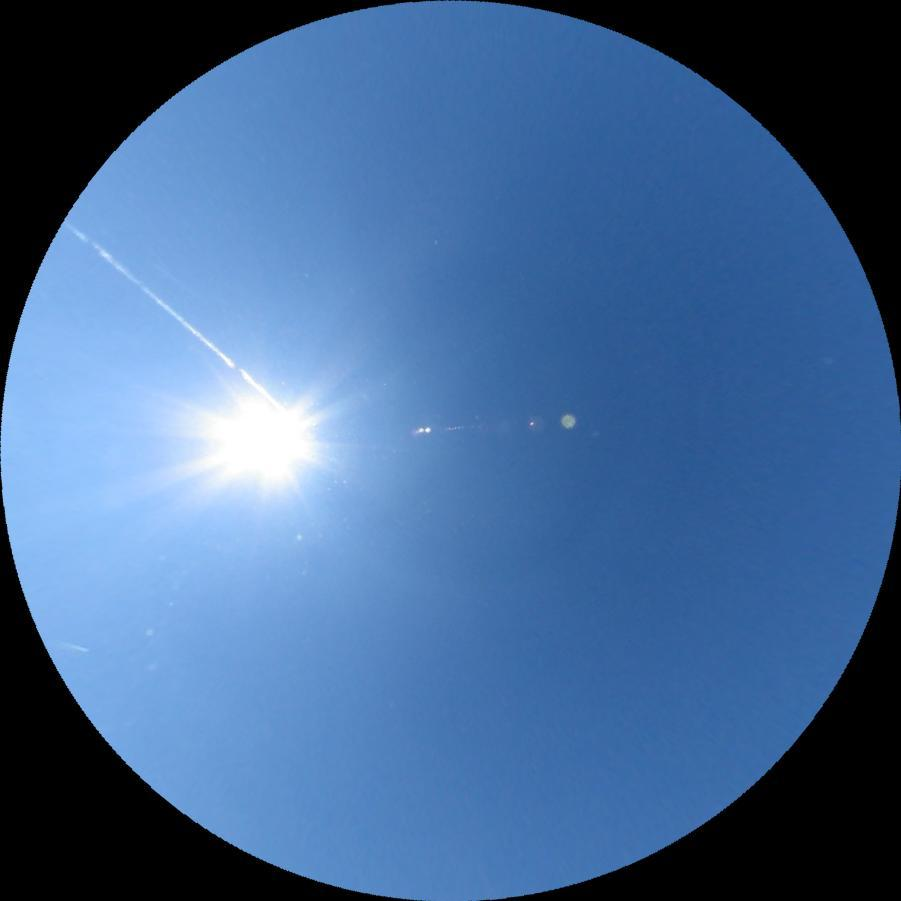contrail young: (52, 638, 92, 655)
parasite: (61, 216, 287, 412)
sun: (198, 379, 323, 499)
